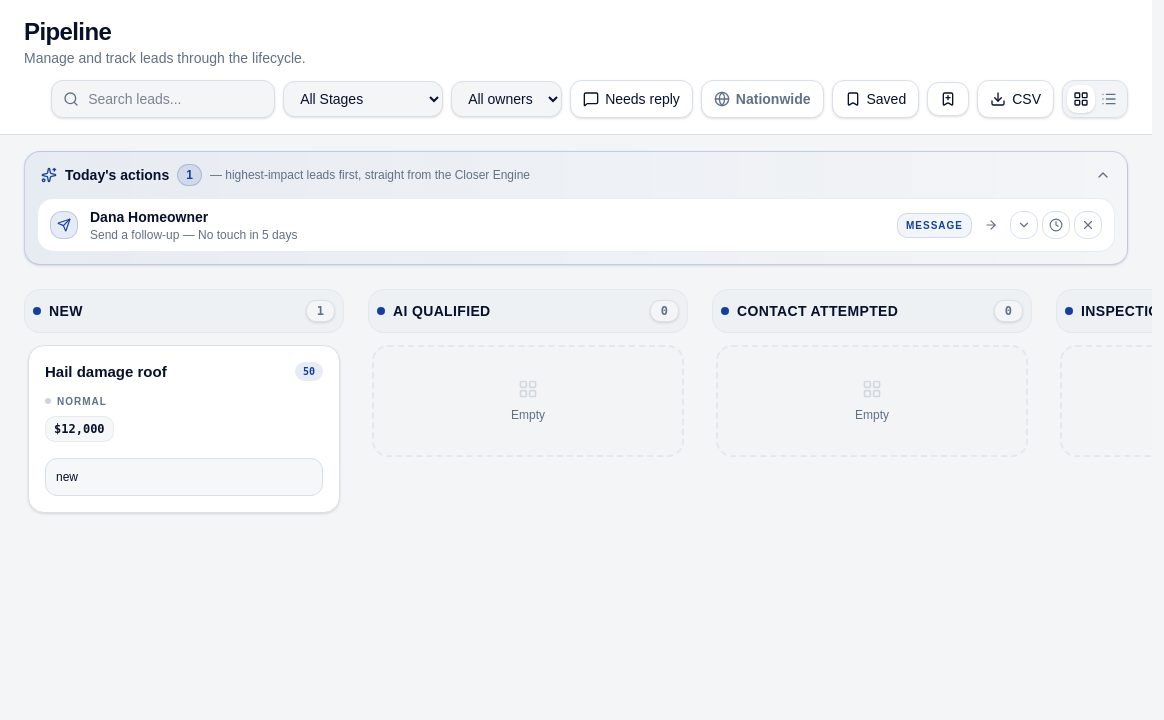
every icon-only control keeps an accessible name › pipeline Today's Actions rows, including the expanded draft panel
The width and height of the screenshot is (1164, 720).
expect the button named "snooze suggestion for dana homeowner" is shown: met, box [1042,211,1070,239]
expect the button named "dismiss suggestion for dana homeowner" is shown: met, box [1074,211,1102,239]
Note: Expand the draft panel and check the composer controls too.
Click the button named "show draft for dana homeowner": click(1024, 225) [1010,211,1038,239]
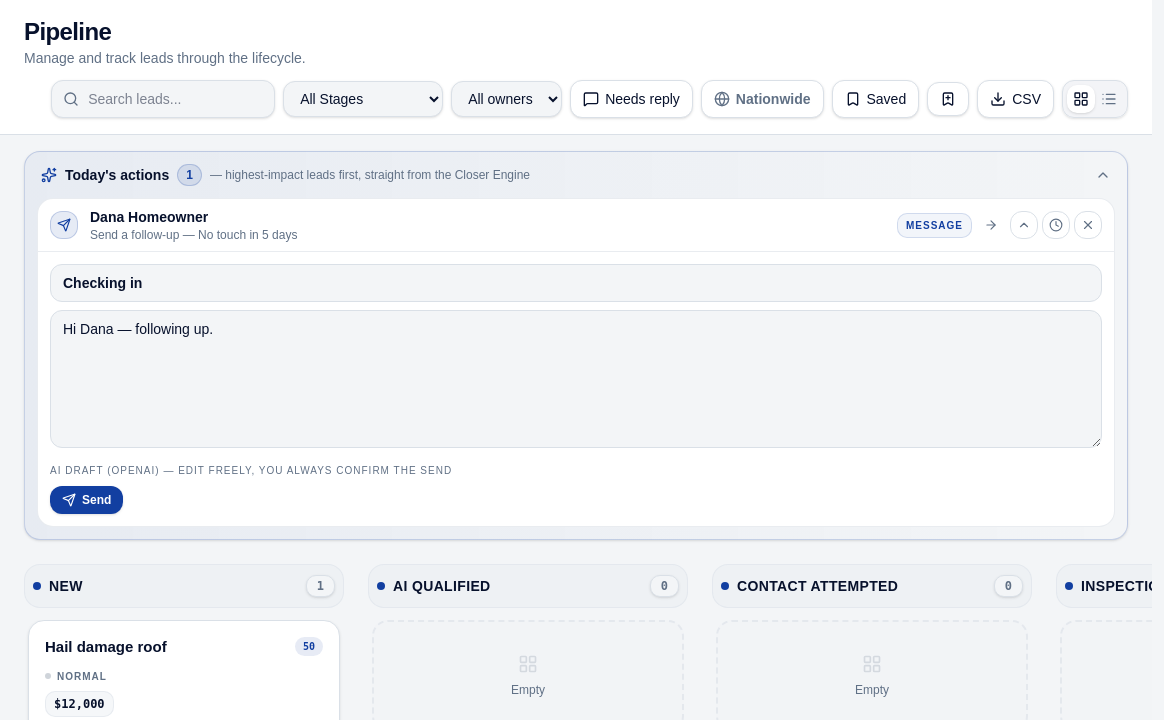
expect the text box named "Draft message" is shown: met, box [50,310,1102,448]
